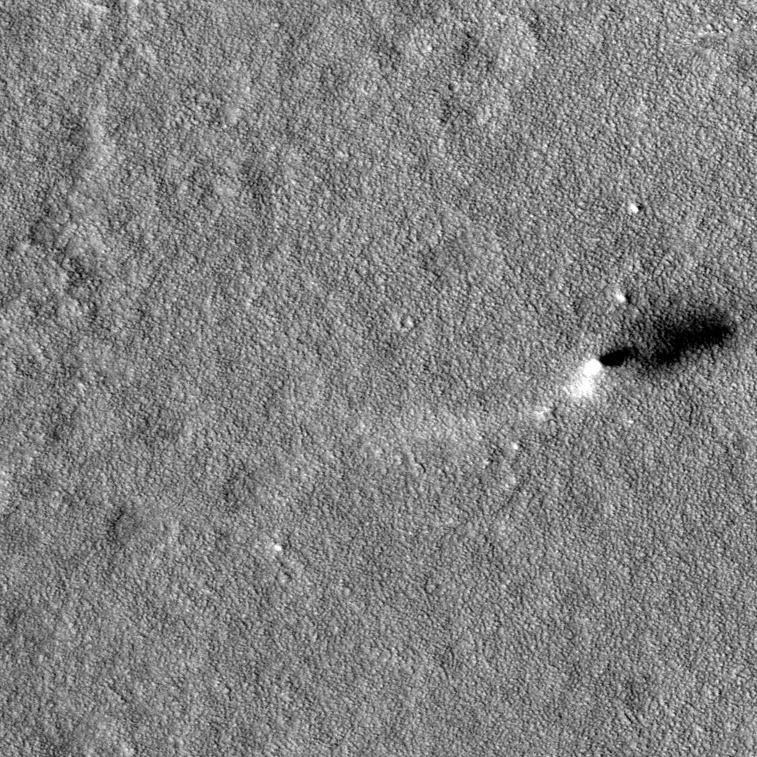dust_devil: (556, 297, 741, 413)
